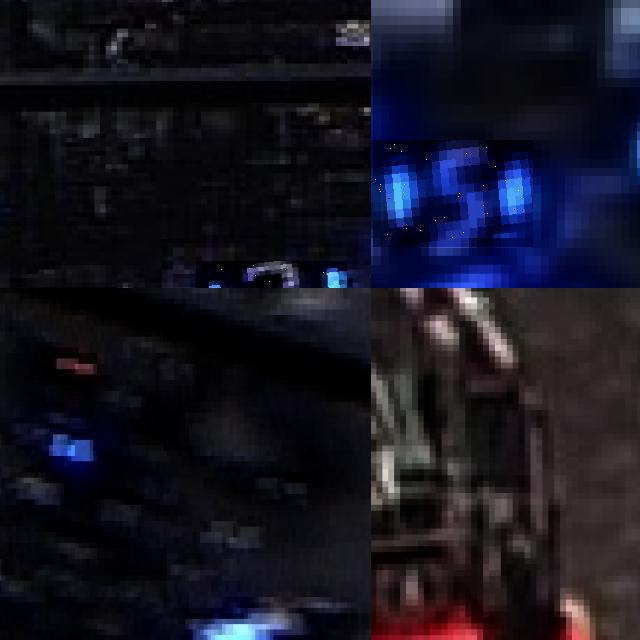B2: (195, 261, 347, 288)
B5: (373, 140, 533, 247)
